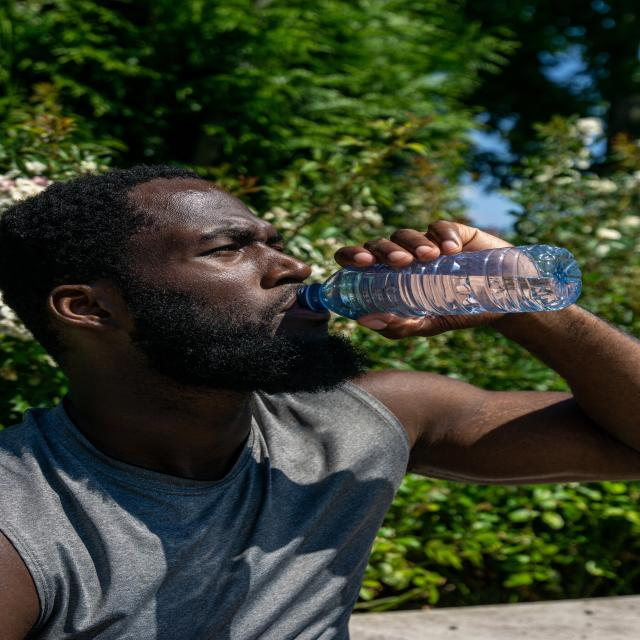bottle: (299, 242, 584, 321)
